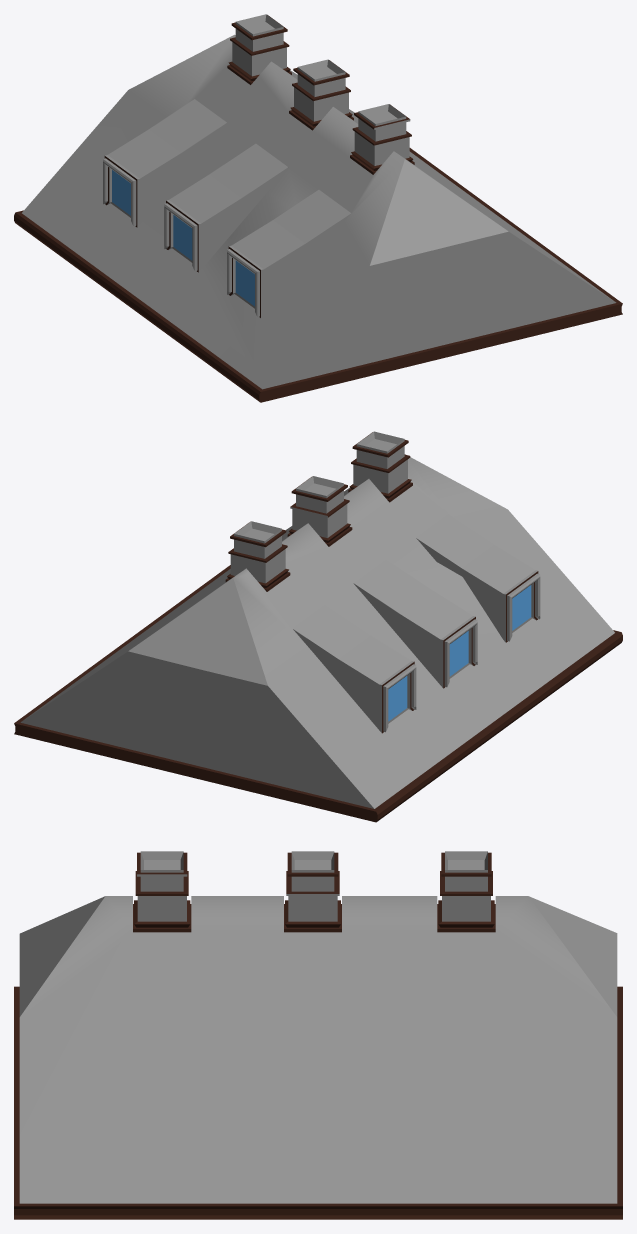
File: Roof1_LOD0.FBX
The picture shows the model from 3 angles, top to bottom: view 1: azimuth 30°, elevation 25°; view 2: azimuth 150°, elevation 25°; view 3: azimuth 270°, elevation 25°; orthographic projection. The views are drawn at different scales.
Visible parts, largest first — view 1: Roof1_LOD1; view 2: Roof1_LOD1; view 3: Roof1_LOD1.
Part boxes in pixels (x1,y1,x2,y2): Roof1_LOD1: (14, 14, 622, 402); Roof1_LOD1: (14, 431, 622, 822); Roof1_LOD1: (14, 851, 622, 1219).
Bounding box in the file's own units: 254 × 134 × 297.
